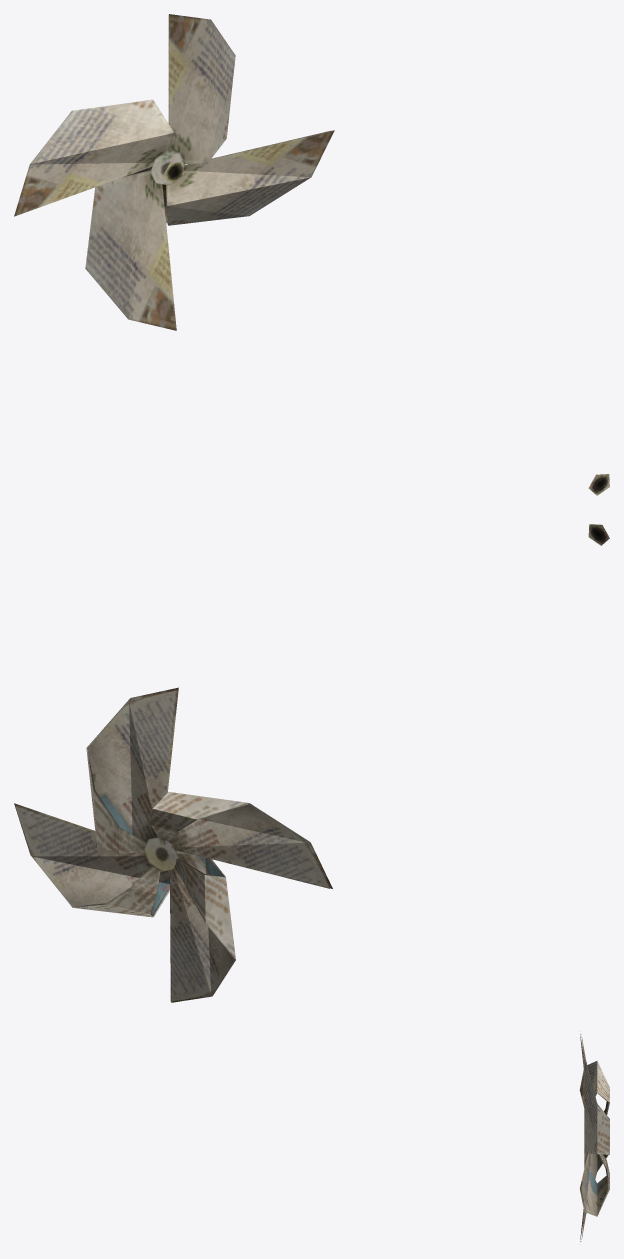
The model's file is Chameleon_paperArrow.obj.
The picture shows the model from 3 angles, top to bottom: view 1: azimuth 30°, elevation 25°; view 2: azimuth 150°, elevation 25°; view 3: azimuth 270°, elevation 25°; orthographic projection. The views are drawn at different scales.
Parts seen in each view (by area): view 1: Chameleon_paperArrow_tri; view 2: Chameleon_paperArrow_tri; view 3: Chameleon_paperArrow_tri.
Boxes of the visible parts, bbox=[...] form: Chameleon_paperArrow_tri: bbox=[14, 14, 609, 495]; Chameleon_paperArrow_tri: bbox=[14, 524, 609, 1002]; Chameleon_paperArrow_tri: bbox=[579, 1034, 609, 1241].
Bounding box in the file's own units: 0.3757 × 0.3566 × 0.9108.
1 material, 1 textured.
